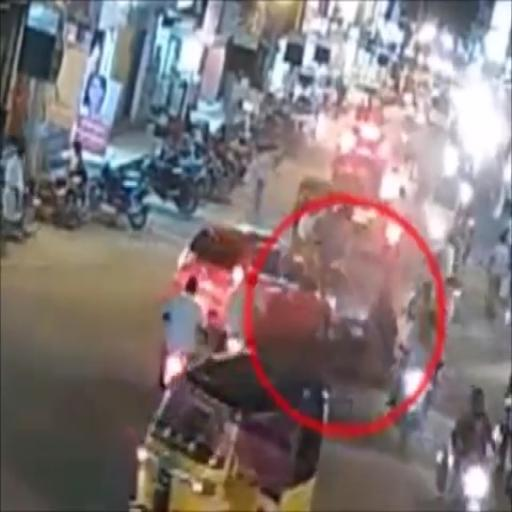小汽车: (126, 353, 321, 508), (174, 223, 332, 342)
自行车: (392, 288, 441, 444)
